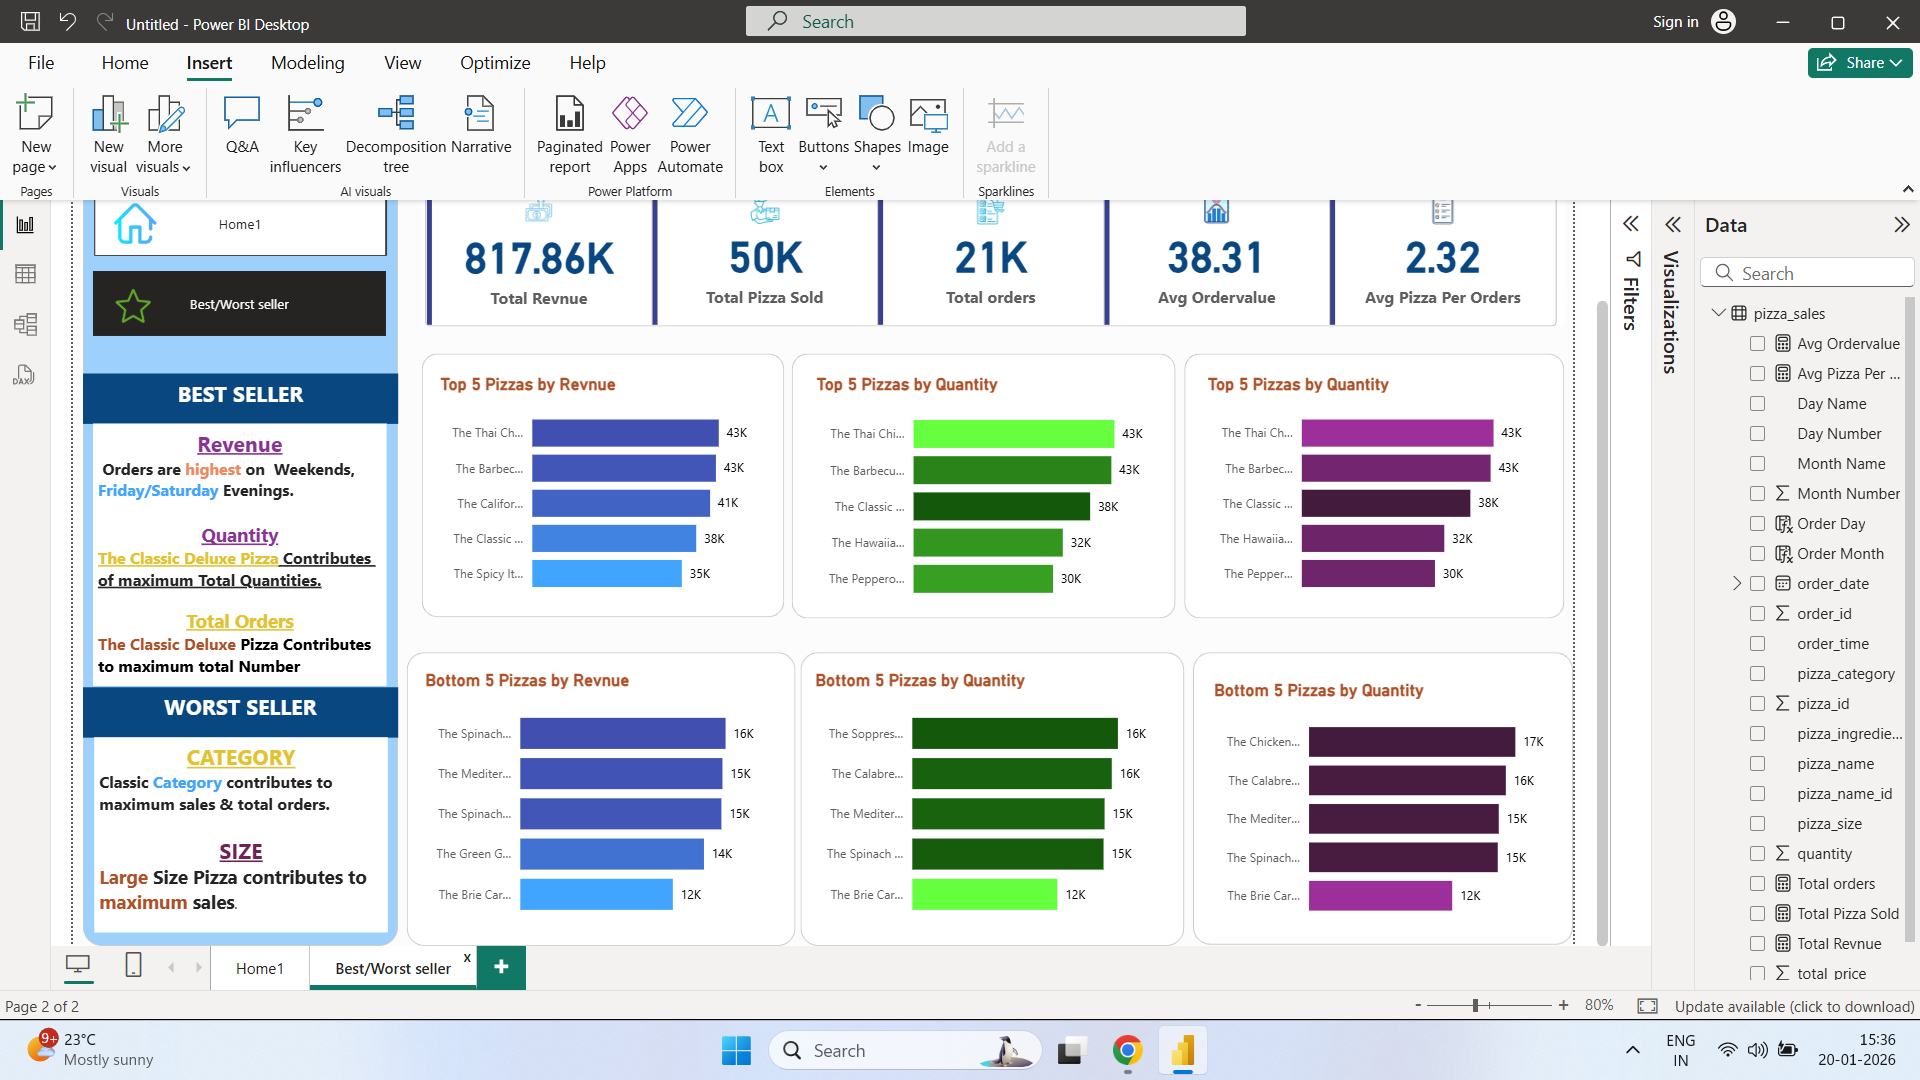

Layout of this report page (visuals, bound fields, positions):
{"tool":"powerbi","page":{"name":"Best/Worst seller","canvas":[1500,850],"ordinal":1},"visuals":[{"type":"cardVisual","fields":{"Data":["pizza_sales.Total Revnue","pizza_sales.Total Pizza Sold","pizza_sales.Total orders","pizza_sales.Avg Ordervalue","pizza_sales.Avg Pizza Per Orders"]},"box":[347.5,80,1143.8,150],"z":0},{"type":"shape","box":[10,3.8,1481.2,67.5],"z":1000},{"type":"textbox","box":[486.2,0,332.5,55],"z":2000},{"type":"textbox","box":[617.5,46.2,115,25],"z":3000},{"type":"shape","box":[10,80,315,770],"z":4000},{"type":"shape","box":[718.8,257.5,383.8,265],"z":5000},{"type":"textbox","box":[10,277.5,315,50],"z":6000},{"type":"textbox","box":[20,327.5,293.8,262.5],"z":7000},{"type":"textbox","box":[10,591.2,315,50],"z":8000},{"type":"textbox","box":[21.2,641.2,293.8,195],"z":9000},{"type":"slicer","title":"Pizza Category","fields":{"Values":["pizza_sales.pizza_category"]},"box":[1011.2,6.2,190,61.2],"z":10000},{"type":"slicer","title":"Pizza Category","fields":{"Values":["pizza_sales.order_date"]},"box":[1216.2,10,257.5,55],"z":11000},{"type":"shape","box":[348.8,257.5,362.5,263.8],"z":12000},{"type":"shape","box":[1120,556.2,380,292.5],"z":13000},{"type":"shape","box":[1111.2,257.5,380,265],"z":14000},{"type":"shape","box":[333.8,556.2,388.8,293.8],"z":15000},{"type":"shape","box":[727.5,556.2,383.8,293.8],"z":16000},{"type":"barChart","title":"Top 5 Pizzas by Revnue","fields":{"Y":["pizza_sales.Total Revnue"],"Category":["pizza_sales.pizza_name"]},"box":[362.5,277.5,336.2,233.8],"z":17000},{"type":"barChart","title":"Bottom 5 Pizzas by Revnue","fields":{"Y":["pizza_sales.Total Revnue"],"Category":["pizza_sales.pizza_name"]},"box":[347.5,573.8,350,262.5],"z":18000},{"type":"barChart","title":"Bottom 5 Pizzas by Quantity","fields":{"Y":["pizza_sales.Total Revnue"],"Category":["pizza_sales.pizza_name"]},"box":[737.5,573.8,356.2,262.5],"z":19000},{"type":"barChart","title":"Top 5 Pizzas by Quantity","fields":{"Y":["pizza_sales.Total Revnue"],"Category":["pizza_sales.pizza_name"]},"box":[738.8,277.5,356.2,240],"z":20000},{"type":"barChart","title":"Top 5 Pizzas by Quantity","fields":{"Y":["pizza_sales.Total Revnue"],"Category":["pizza_sales.pizza_name"]},"box":[1130,277.5,343.8,233.8],"z":21000},{"type":"barChart","title":"Bottom 5 Pizzas by Quantity","fields":{"Y":["pizza_sales.Total Revnue"],"Category":["pizza_sales.pizza_name"]},"box":[1136.2,583.8,348.8,252.5],"z":22000},{"type":"pageNavigator","box":[21.2,95,292.5,65],"z":23000},{"type":"image","box":[230,182.5,66.2,47.5],"z":24000},{"type":"pageNavigator","box":[20,175,293.8,65],"z":25000},{"type":"image","box":[36.2,97.5,52.5,60],"z":26000},{"type":"image","box":[36.2,187.5,47.5,45],"z":27000}]}

Visuals, with their boxes on the page's 1500x850 design canvas (x1, y1, x2, y2). These are canvas units, not pixel positions in the 1920x1080 screenshot, which may show the page scaled, cropped or inside an application window:
cardVisual - pizza_sales.Total Revnue x pizza_sales.Total Pizza Sold: BBox(348, 80, 1491, 230)
shape: BBox(10, 4, 1491, 71)
textbox: BBox(486, 0, 819, 55)
textbox: BBox(618, 46, 732, 71)
shape: BBox(10, 80, 325, 850)
shape: BBox(719, 258, 1103, 522)
textbox: BBox(10, 278, 325, 328)
textbox: BBox(20, 328, 314, 590)
textbox: BBox(10, 591, 325, 641)
textbox: BBox(21, 641, 315, 836)
"Pizza Category" slicer: BBox(1011, 6, 1201, 67)
"Pizza Category" slicer: BBox(1216, 10, 1474, 65)
shape: BBox(349, 258, 711, 521)
shape: BBox(1120, 556, 1500, 849)
shape: BBox(1111, 258, 1491, 522)
shape: BBox(334, 556, 723, 850)
shape: BBox(728, 556, 1111, 850)
"Top 5 Pizzas by Revnue" barChart: BBox(362, 278, 699, 511)
"Bottom 5 Pizzas by Revnue" barChart: BBox(348, 574, 698, 836)
"Bottom 5 Pizzas by Quantity" barChart: BBox(738, 574, 1094, 836)
"Top 5 Pizzas by Quantity" barChart: BBox(739, 278, 1095, 518)
"Top 5 Pizzas by Quantity" barChart: BBox(1130, 278, 1474, 511)
"Bottom 5 Pizzas by Quantity" barChart: BBox(1136, 584, 1485, 836)
pageNavigator: BBox(21, 95, 314, 160)
image: BBox(230, 182, 296, 230)
pageNavigator: BBox(20, 175, 314, 240)
image: BBox(36, 98, 89, 158)
image: BBox(36, 188, 84, 232)
